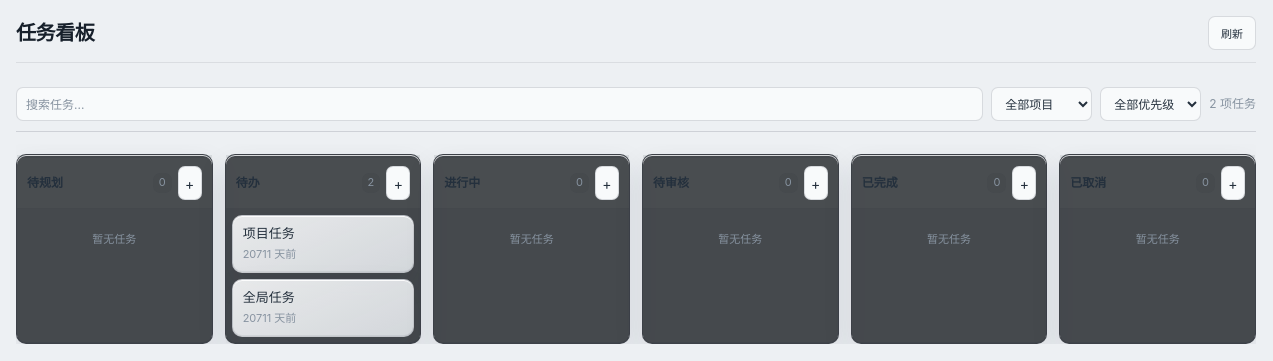
Test case: TaskBoardPage project filter › filters tasks by project
Select "RAG 调研" in the dropdown with test id "kanban-project-filter": (1042, 104) [991,87,1092,121]
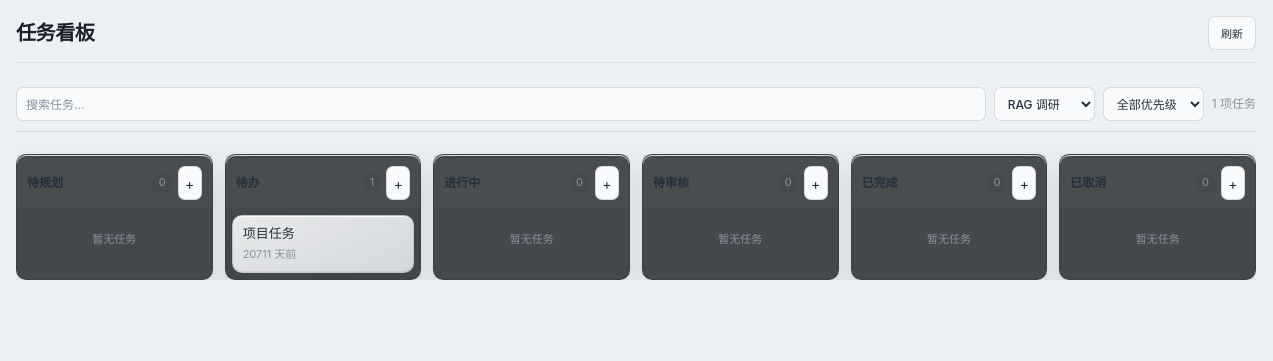
Check: the button with test id "kanban-card" shows "项目任务", box [232,215,414,273]
Select "未关联项目" in the dropdown with test id "kanban-project-filter": (1044, 104) [994,87,1095,121]
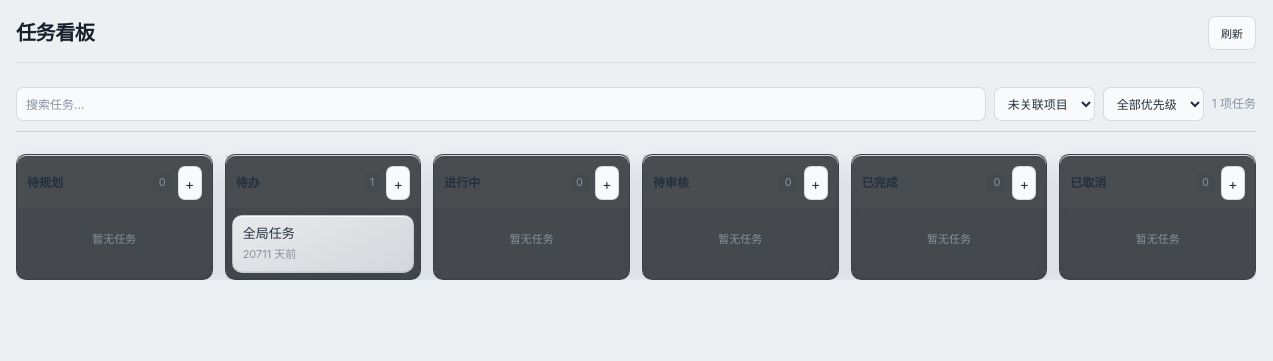
Check: the button with test id "kanban-card" shows "全局任务", box [232,215,414,273]
